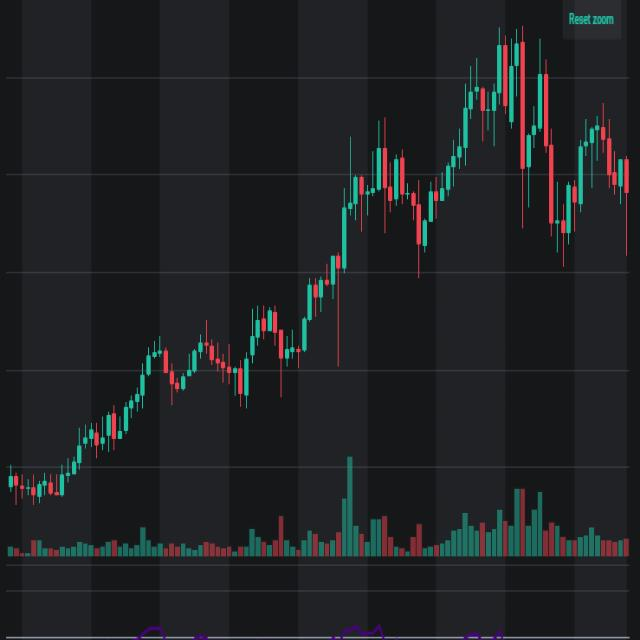Channel-up: (19, 61, 519, 568)
Head-Shoulders: (327, 32, 631, 274)
